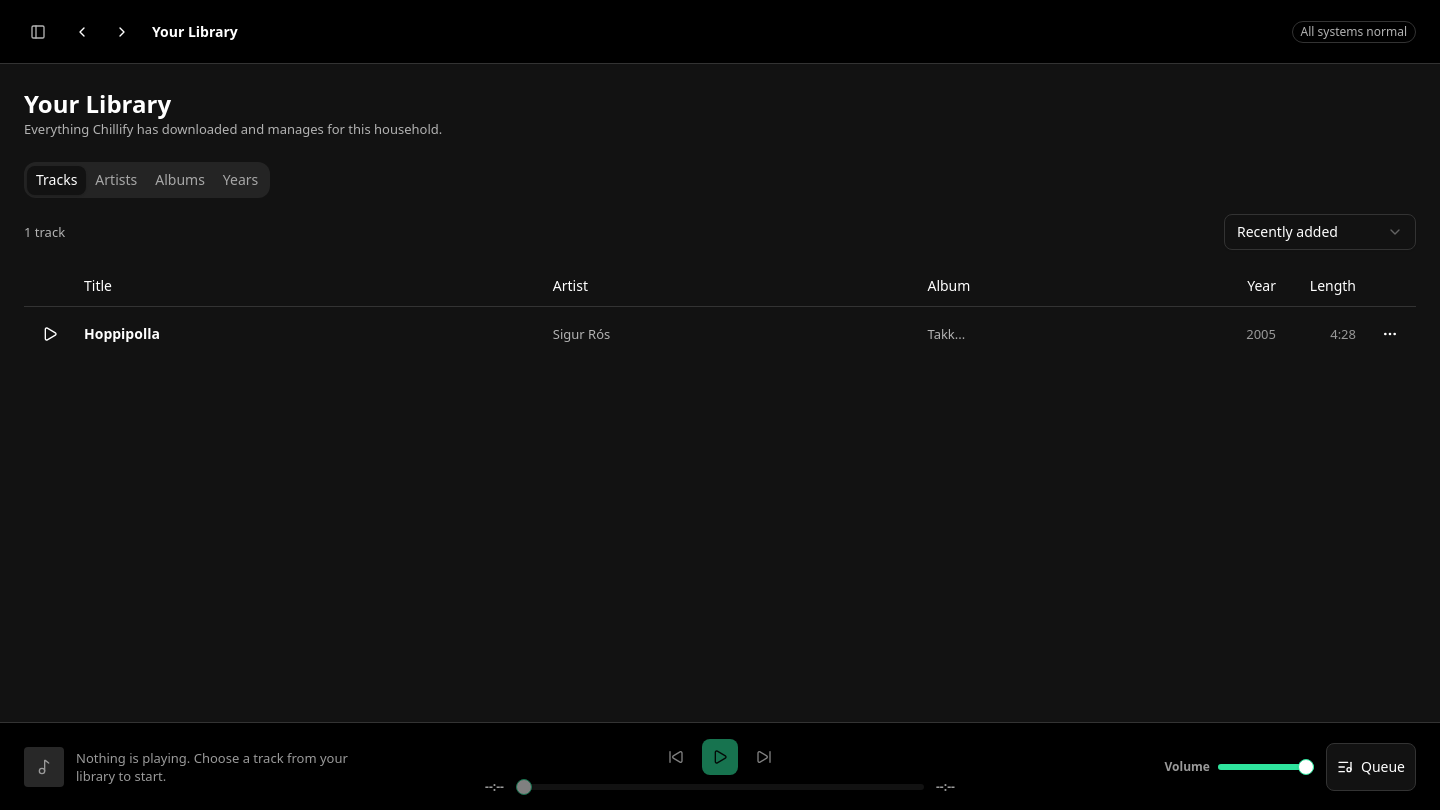
persistent playback › plays a row, loads its stream, and shows it in the player
Click the button named "Play Hoppipolla" at (50,334), box [32,316,68,352]
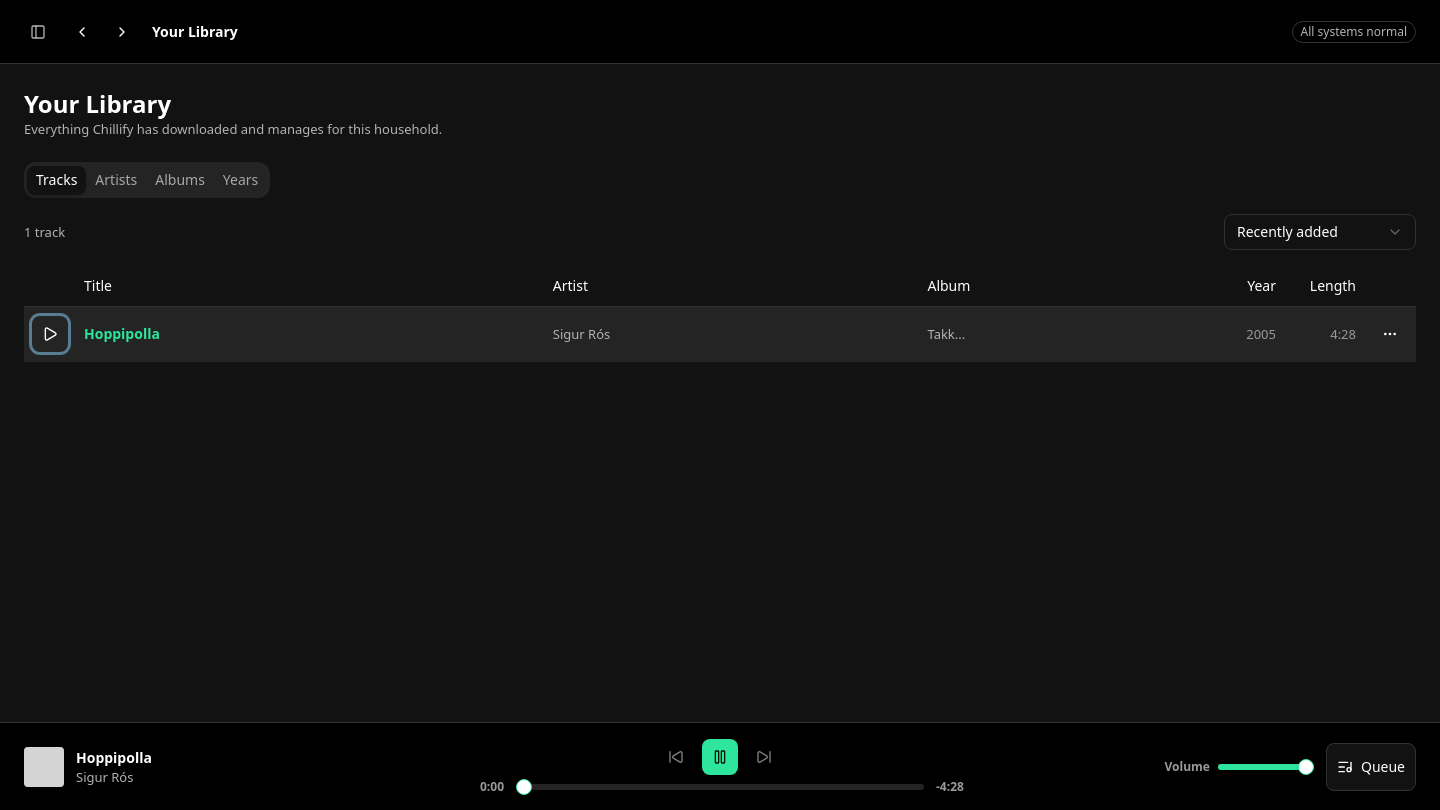
Result: the element named "Player" shows "Hoppipolla" at [76,748,152,766]
Result: the button named "Pause" is shown at [702,738,738,774]
